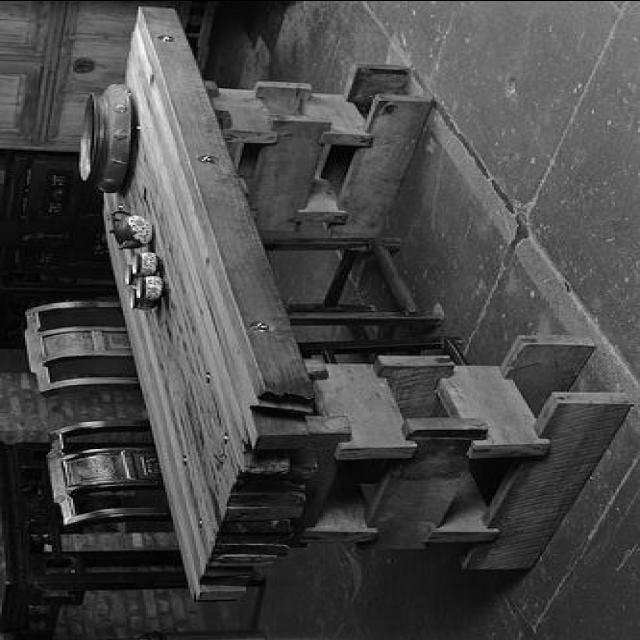chair: (46, 333, 468, 539), (21, 232, 444, 394)
table: (87, 6, 634, 600)
